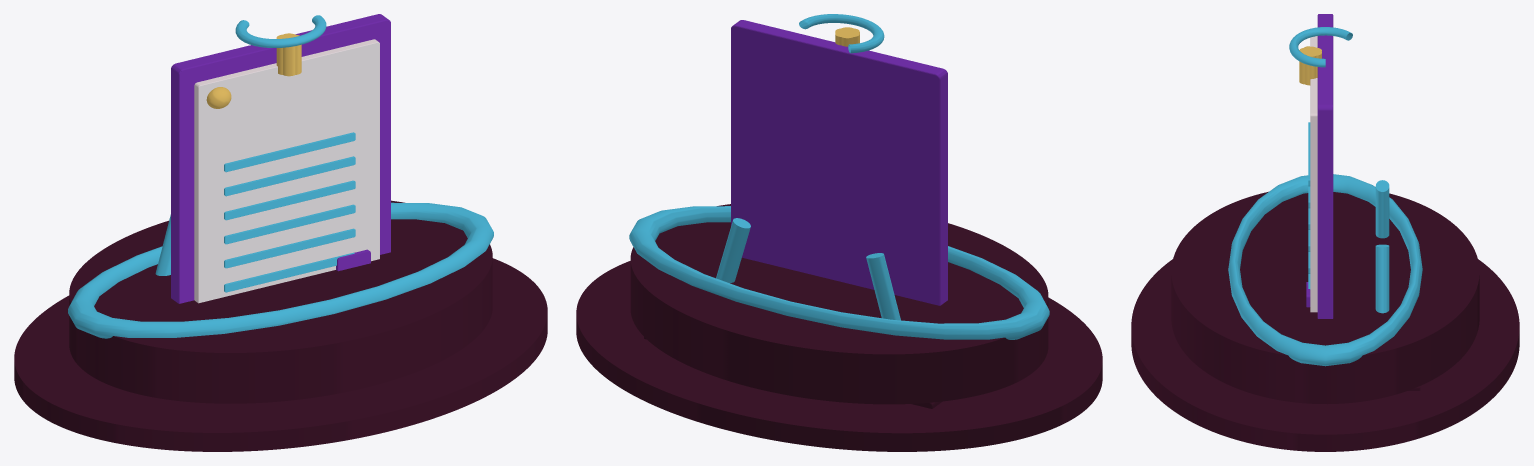
The model's file is 0731_敦煌图鉴_《散花飞天》壁画.glb.
3 views of the same model, side by side, from view 1: azimuth 30°, elevation 25°; view 2: azimuth 150°, elevation 25°; view 3: azimuth 270°, elevation 25° (orthographic). The views are drawn at different scales.
Visible parts, largest first — view 1: card_0731; view 2: card_0731; view 3: card_0731.
Boxes of the visible parts, box(x1,y1,x2,y2) form: card_0731: box(14, 14, 547, 451); card_0731: box(576, 14, 1102, 451); card_0731: box(1131, 14, 1519, 451).
Bounding box in the file's own units: 1.55 × 1 × 1.17.
